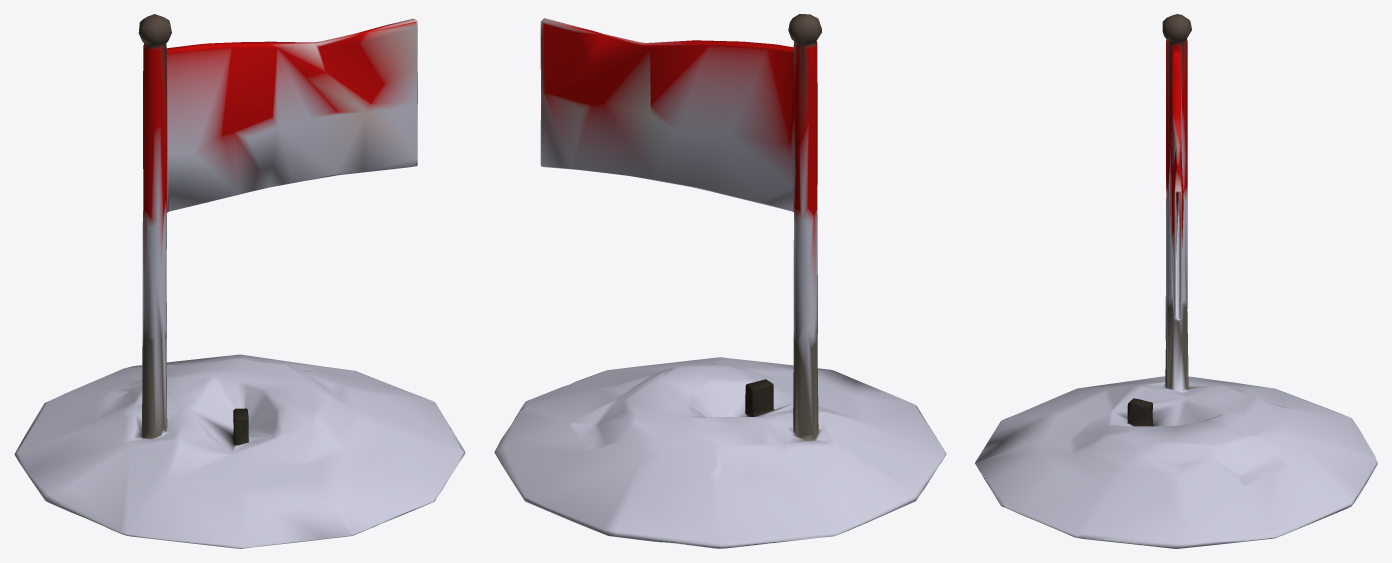
Rendered from gen3d-polar-flag-lod1.glb.
The picture shows the model from 3 angles, left to right: view 1: azimuth 30°, elevation 25°; view 2: azimuth 150°, elevation 25°; view 3: azimuth 270°, elevation 25°; orthographic projection. The views are drawn at different scales.
Parts seen in each view (by area): view 1: part_0; view 2: part_0; view 3: part_0.
Boxes of the visible parts, <box> form: part_0: <box>14,14,465,548</box>; part_0: <box>494,14,946,548</box>; part_0: <box>975,14,1377,548</box>.
Size of the model in its own units: 0.8891 by 0.999 by 0.8878.
